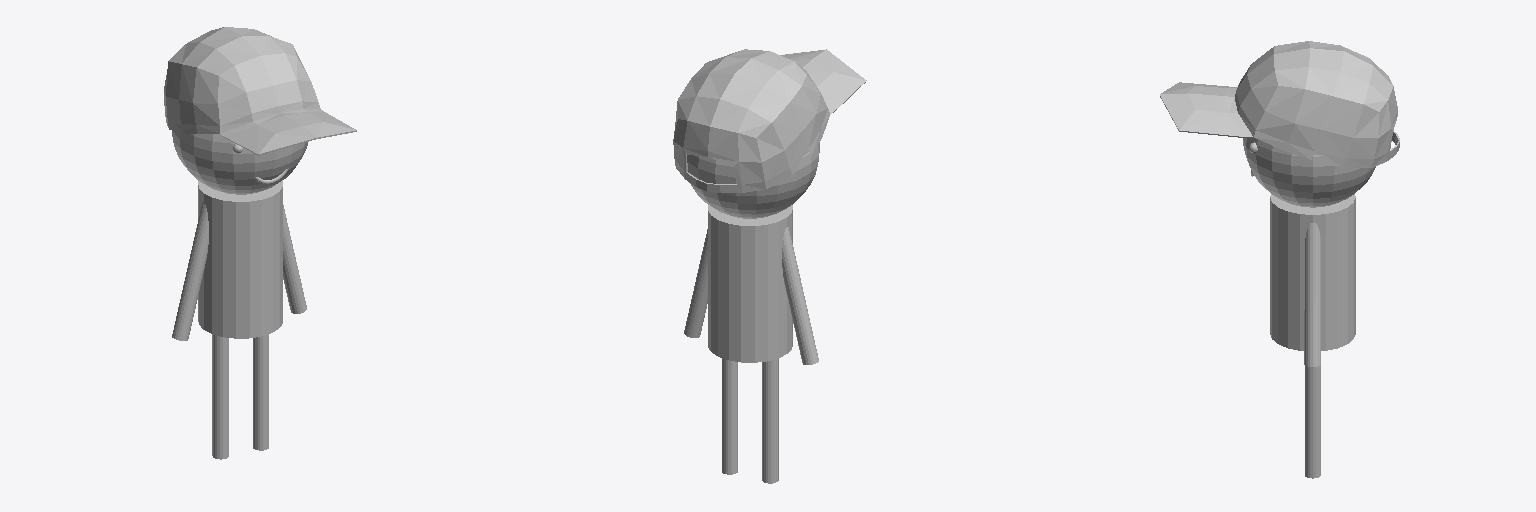
File: man2.obj
The picture shows the model from 3 angles: view 1: azimuth 30°, elevation 25°; view 2: azimuth 150°, elevation 25°; view 3: azimuth 270°, elevation 25°; orthographic projection.
Bounding box in the file's own units: 3.58 × 10.74 × 5.63.